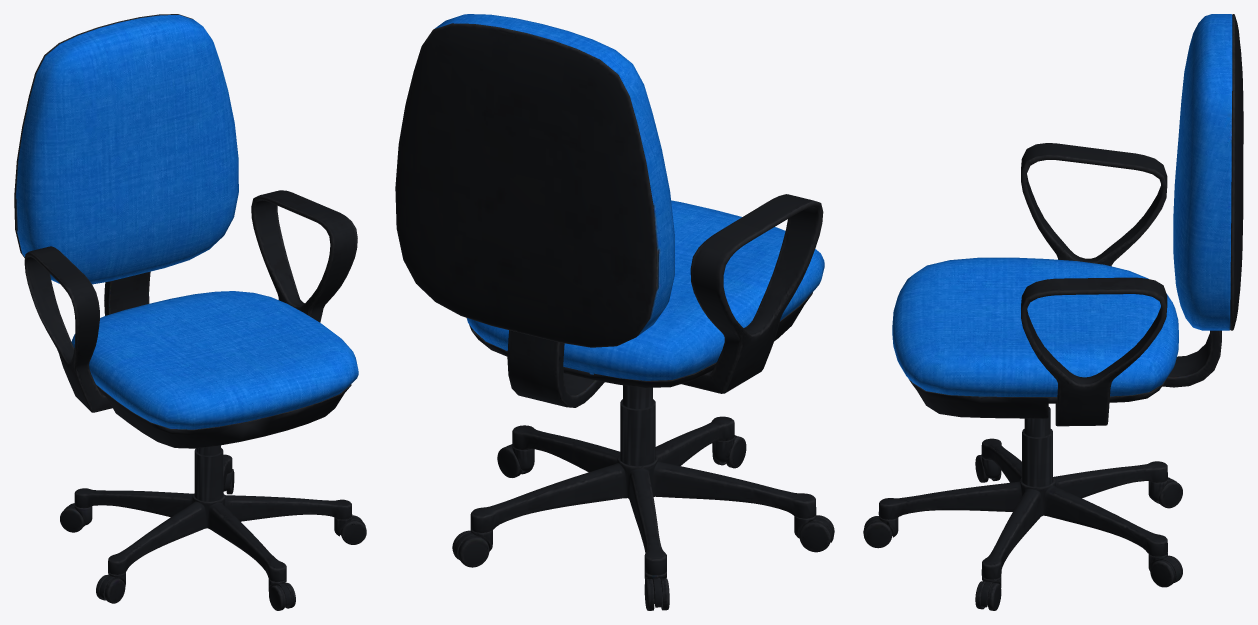
Rendered from office_chair_ak_studio.glb.
3 renders of one model, left to right at view 1: azimuth 30°, elevation 25°; view 2: azimuth 150°, elevation 25°; view 3: azimuth 270°, elevation 25°, orthographic. The views are drawn at different scales.
Visible parts, largest first — view 1: defaultMaterial; view 2: defaultMaterial; view 3: defaultMaterial.
Boxes of the visible parts, x1=… form: defaultMaterial: x1=14, y1=14, x2=366, y2=610; defaultMaterial: x1=395, y1=14, x2=834, y2=610; defaultMaterial: x1=863, y1=14, x2=1243, y2=610.
Bounding box in the file's own units: 0.6782 × 1.06 × 0.7217.
1 material, 1 textured.
